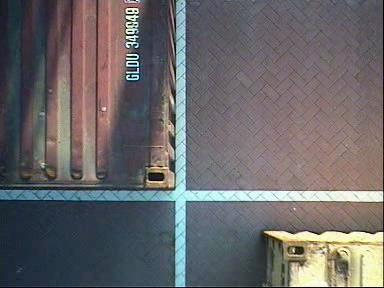groundmarker_2: (26, 165, 93, 260)
